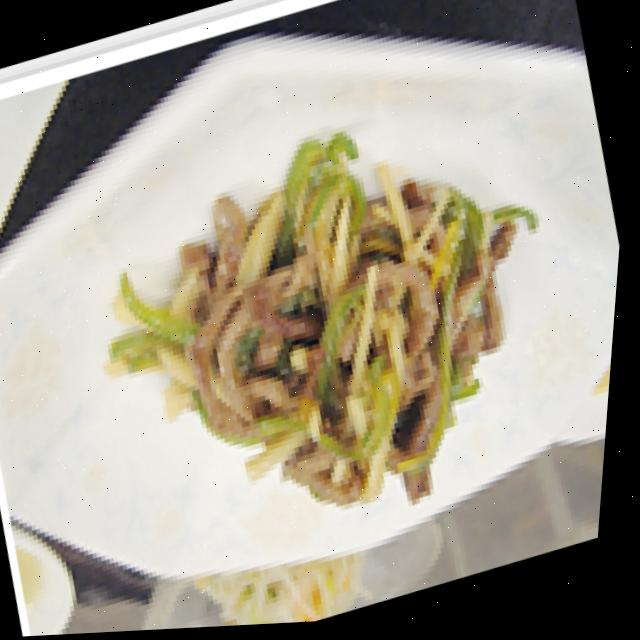牛肉菜式: (49, 64, 612, 625)
